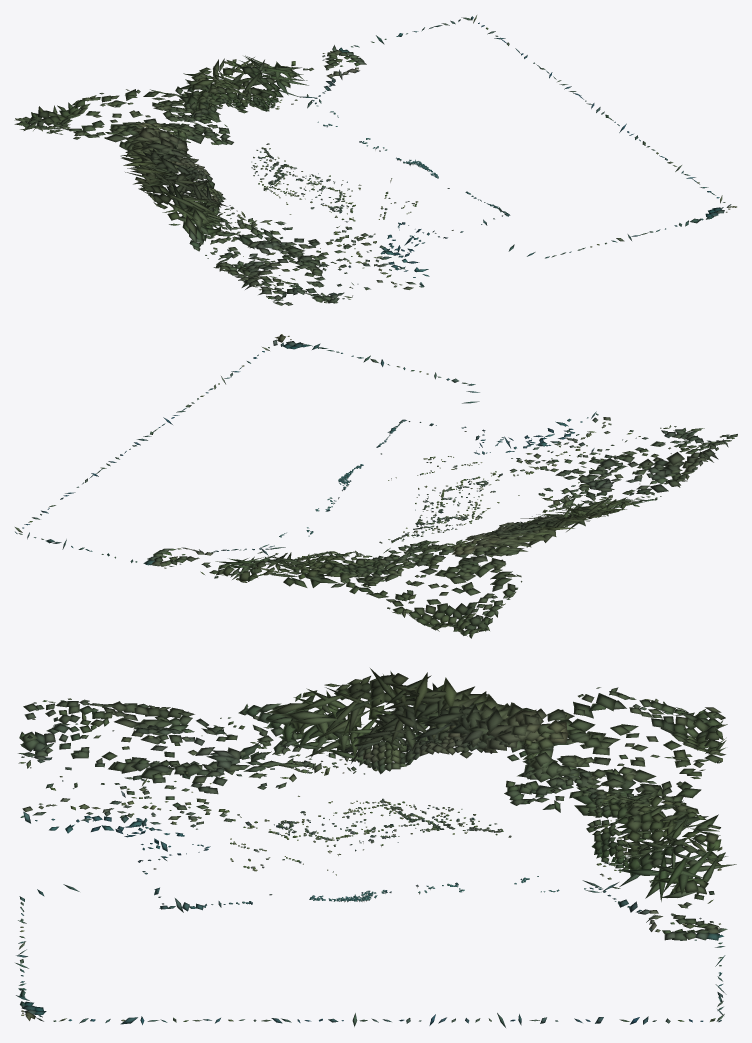
File: sky_backdrop_part2.glb
3 renders of one model, top to bottom at view 1: azimuth 30°, elevation 25°; view 2: azimuth 150°, elevation 25°; view 3: azimuth 270°, elevation 25°, orthographic. The views are drawn at different scales.
Visible parts, largest first — view 1: bg_trees_joined; view 2: bg_trees_joined; view 3: bg_trees_joined.
Part boxes in pixels (bbox=[...]): bg_trees_joined: bbox=[14, 15, 736, 305]; bg_trees_joined: bbox=[15, 334, 737, 638]; bg_trees_joined: bbox=[15, 668, 736, 1027].
Bounding box in the file's own units: 3073 × 288 × 3101.
1 material, 1 textured.
